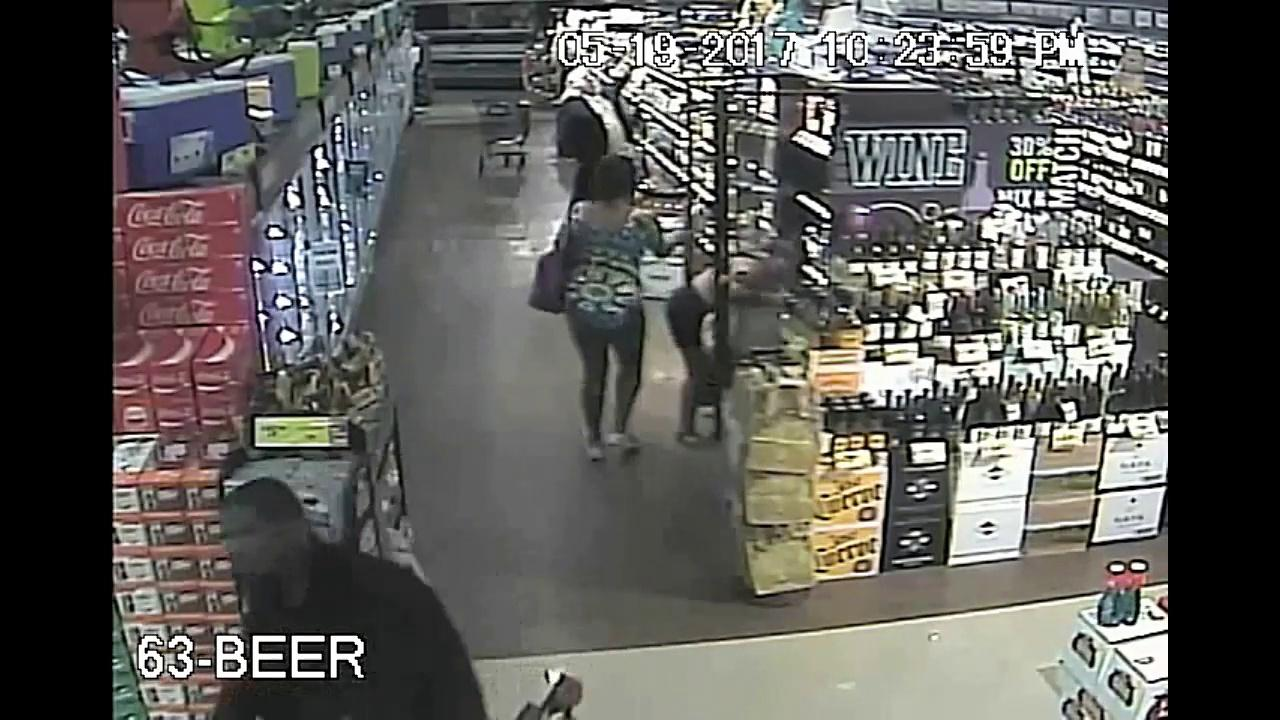Customer-Bagpack: (525, 241, 577, 318)
Regular: (136, 423, 535, 720), (506, 134, 692, 484), (536, 56, 645, 144)
Shoplifting: (663, 221, 817, 418)
